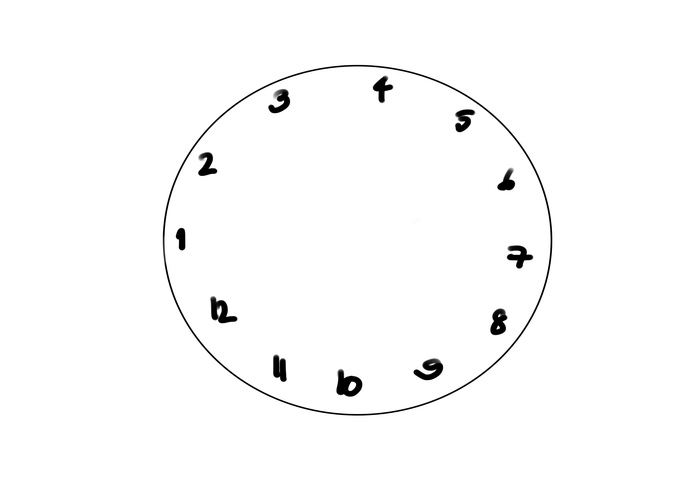eight: (491, 301, 508, 336)
eleven: (268, 348, 292, 383)
five: (449, 102, 480, 137)
four: (371, 68, 398, 110)
nine: (411, 350, 450, 384)
one: (173, 224, 190, 258)
seven: (505, 231, 537, 275)
six: (498, 160, 522, 194)
ten: (331, 361, 365, 400)
three: (270, 87, 294, 114)
twelve: (205, 294, 242, 328)
two: (195, 147, 222, 178)
